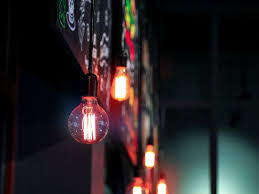bulb: (60, 88, 113, 149), (109, 59, 135, 115)
